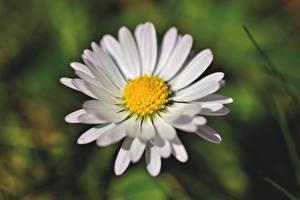chamomile: (71, 45, 213, 158)
